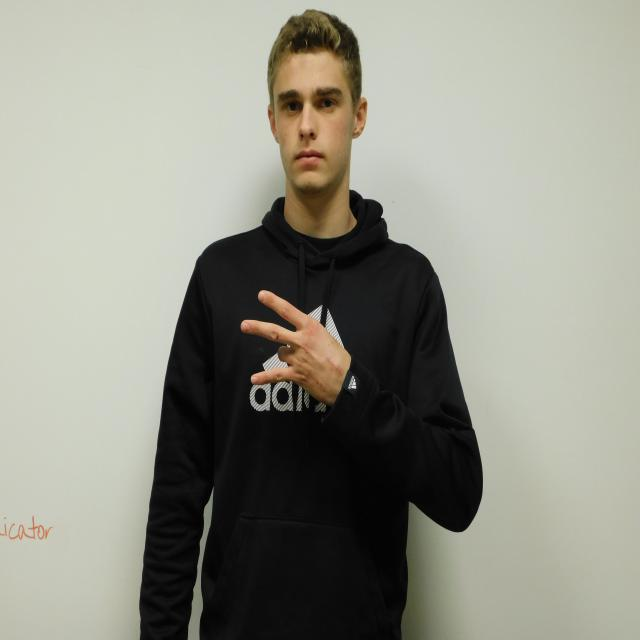like: (240, 290, 350, 402)
